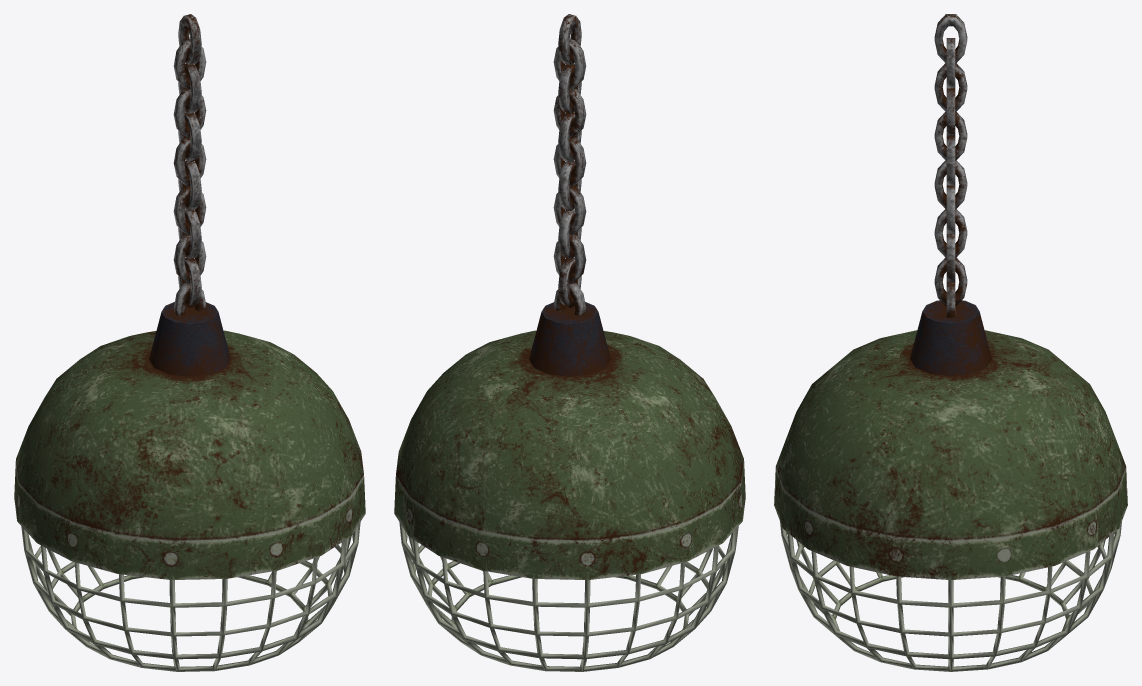
The picture shows the model from 3 angles, left to right: view 1: azimuth 30°, elevation 25°; view 2: azimuth 150°, elevation 25°; view 3: azimuth 270°, elevation 25°; orthographic projection.
Parts seen in each view (by area): view 1: base_out_low, wireframe_low, chain_low, cap_low; view 2: base_out_low, wireframe_low, chain_low, cap_low; view 3: base_out_low, wireframe_low, chain_low, cap_low.
Boxes of the visible parts, <box> form: base_out_low: <box>14,330,365,579</box>; wireframe_low: <box>21,522,360,671</box>; chain_low: <box>173,14,206,316</box>; cap_low: <box>149,302,230,376</box>; base_out_low: <box>394,330,745,579</box>; wireframe_low: <box>399,522,738,671</box>; chain_low: <box>553,14,586,316</box>; cap_low: <box>529,302,610,376</box>; base_out_low: <box>774,330,1127,579</box>; wireframe_low: <box>780,522,1121,671</box>; chain_low: <box>934,14,967,317</box>; cap_low: <box>910,300,991,376</box>.
Size of the model in its own units: 0.2843 by 0.5369 by 0.2843.
1 material, 1 textured.
